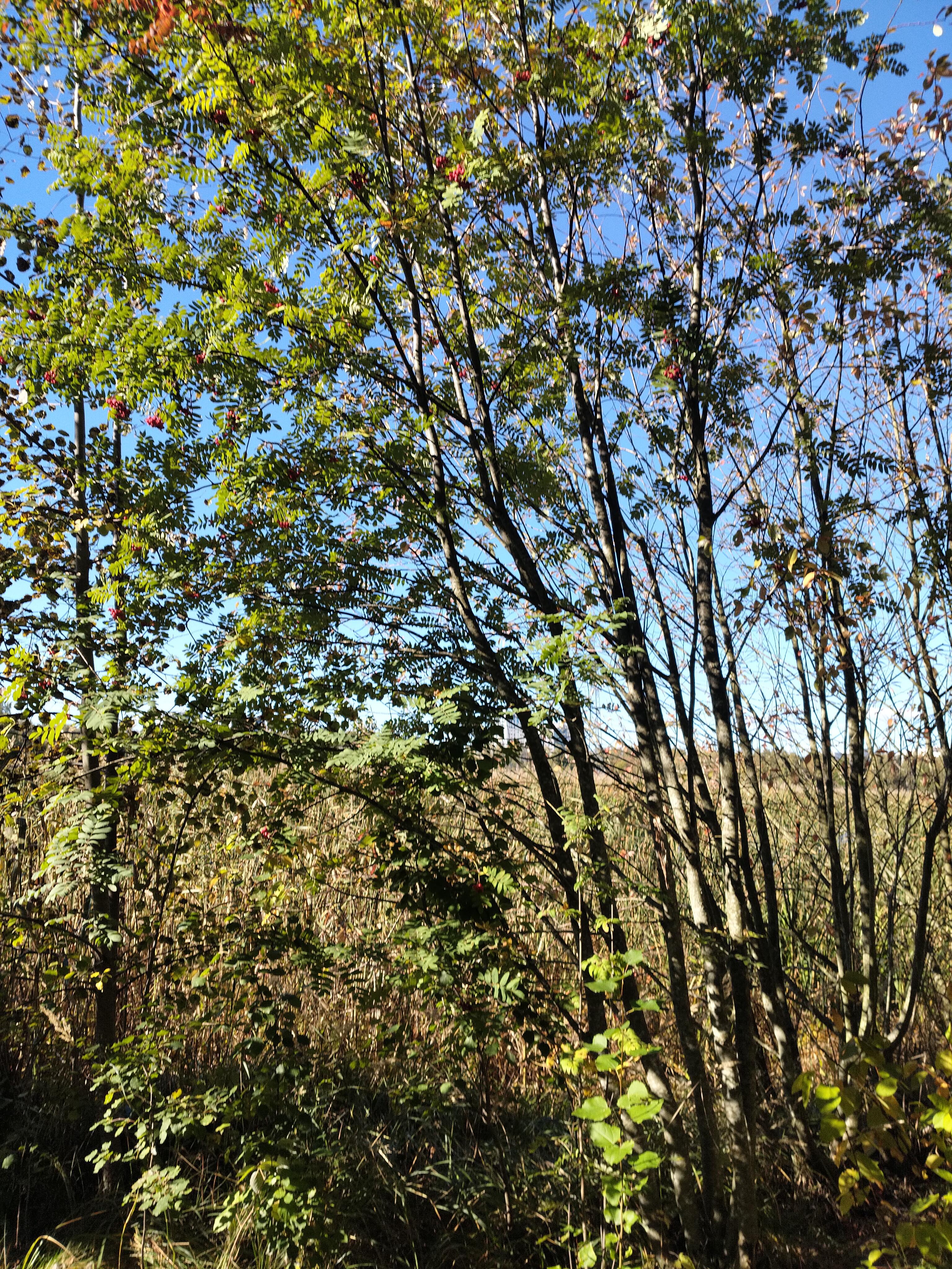Rowan: (1, 1, 951, 1267)
